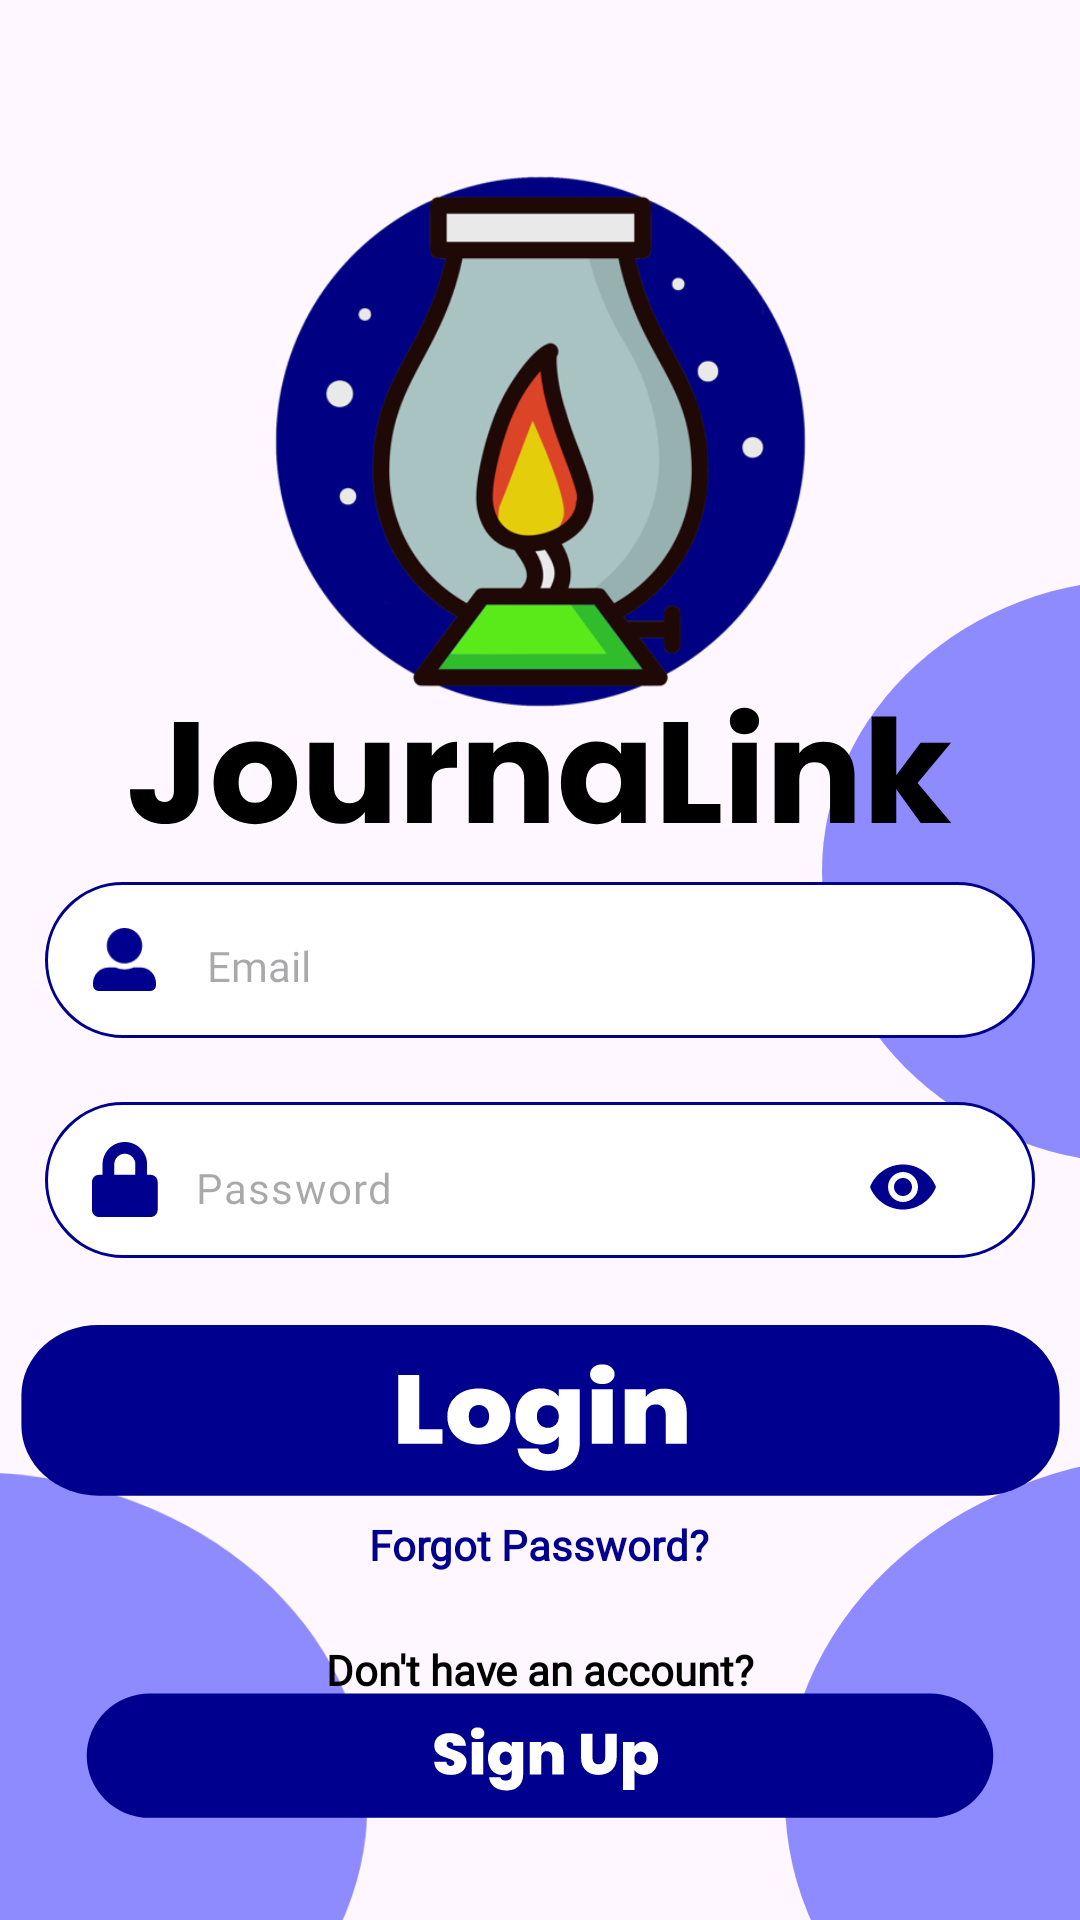

Point at icon controls on the screen. Image size 1080 × 1920, points as (x,y).
username: (124,959)
